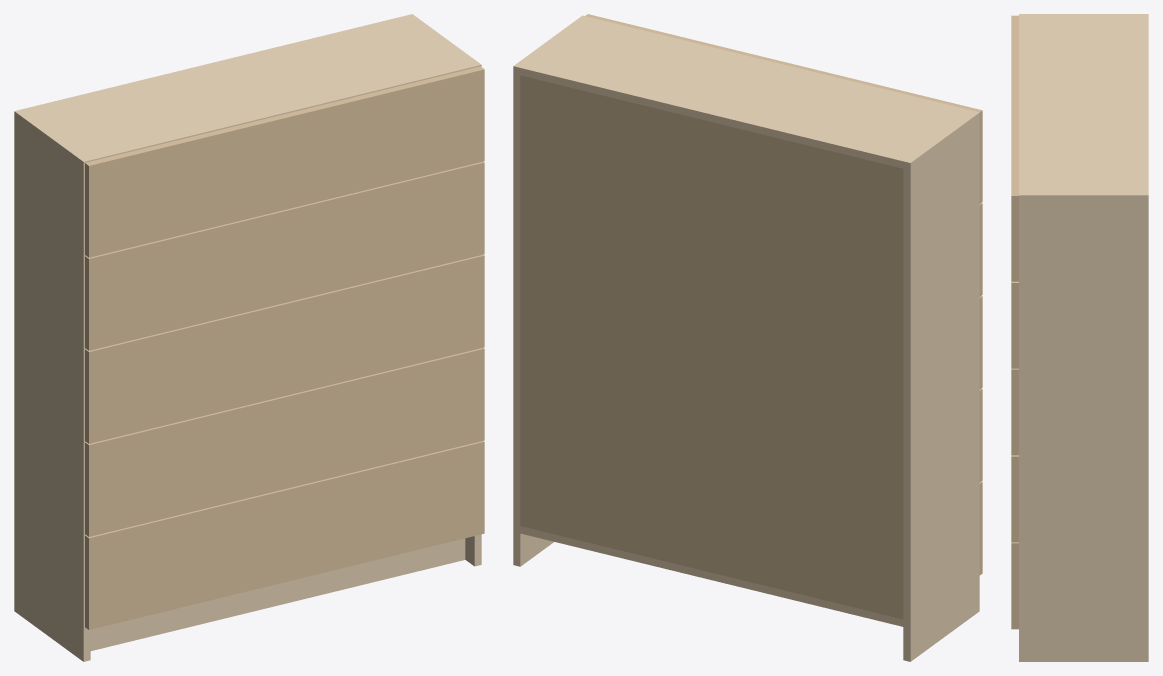
Rendered from comoda.glb.
The picture shows the model from 3 angles, left to right: view 1: azimuth 30°, elevation 25°; view 2: azimuth 150°, elevation 25°; view 3: azimuth 270°, elevation 25°; orthographic projection. The views are drawn at different scales.
Visible parts, largest first — view 1: 031 Frente cajón 5, 025 Frente cajón 4, 013 Frente cajón 2, 007 Frente cajón 1, 019 Frente cajón 3, 001 Lateral izq, 004 Techo, 005 Zócalo, 002 Lateral der; view 2: 006 Trasera, 001 Lateral izq, 004 Techo, 002 Lateral der, 003 Base, 031 Frente cajón 5; view 3: 002 Lateral der, 004 Techo, 031 Frente cajón 5, 007 Frente cajón 1, 013 Frente cajón 2, 019 Frente cajón 3, 025 Frente cajón 4, 001 Lateral izq.
Part boxes in pixels (left/top/right/bottom): 031 Frente cajón 5: left=85, top=66, right=484, bottom=257; 025 Frente cajón 4: left=85, top=161, right=484, bottom=350; 013 Frente cajón 2: left=85, top=347, right=484, bottom=536; 007 Frente cajón 1: left=85, top=441, right=484, bottom=629; 019 Frente cajón 3: left=85, top=254, right=484, bottom=443; 001 Lateral izq: left=14, top=109, right=90, bottom=661; 004 Techo: left=22, top=16, right=474, bottom=161; 005 Zócalo: left=90, top=538, right=465, bottom=650; 002 Lateral der: left=405, top=14, right=481, bottom=566; 006 Trasera: left=520, top=75, right=903, bottom=619; 001 Lateral izq: left=903, top=110, right=979, bottom=661; 004 Techo: left=520, top=17, right=971, bottom=168; 002 Lateral der: left=513, top=15, right=589, bottom=566; 003 Base: left=520, top=526, right=903, bottom=626; 031 Frente cajón 5: left=585, top=14, right=982, bottom=203; 002 Lateral der: left=1019, top=192, right=1148, bottom=661; 004 Techo: left=1019, top=17, right=1148, bottom=191; 031 Frente cajón 5: left=1011, top=15, right=1018, bottom=281; 007 Frente cajón 1: left=1011, top=542, right=1018, bottom=629; 013 Frente cajón 2: left=1011, top=455, right=1018, bottom=542; 019 Frente cajón 3: left=1011, top=368, right=1018, bottom=455; 025 Frente cajón 4: left=1011, top=281, right=1018, bottom=368; 001 Lateral izq: left=1019, top=14, right=1148, bottom=17.
Bounding box in the file's own units: 1 × 1.2 × 0.32.
